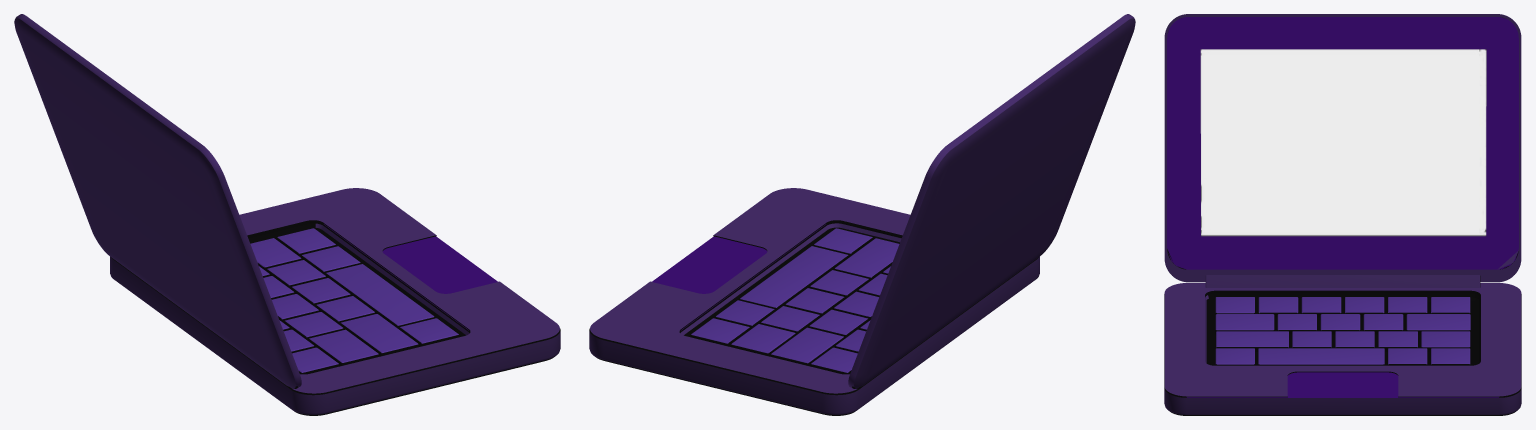
File: laptop.glb
The picture shows the model from 3 angles, left to right: view 1: azimuth 30°, elevation 25°; view 2: azimuth 150°, elevation 25°; view 3: azimuth 270°, elevation 25°; orthographic projection. The views are drawn at different scales.
Visible parts, largest first — view 1: MacBook_1; view 2: MacBook_1; view 3: MacBook_1.
Part boxes in pixels (x1,y1,x2,y2): MacBook_1: (14, 14, 560, 415); MacBook_1: (589, 14, 1135, 415); MacBook_1: (1164, 14, 1521, 415).
Size of the model in its own units: 4.19 by 3.23 by 4.12.
Materials: 5 (1 with a texture image).
